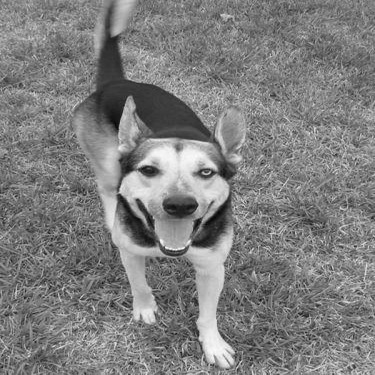dog: (52, 4, 252, 369)
